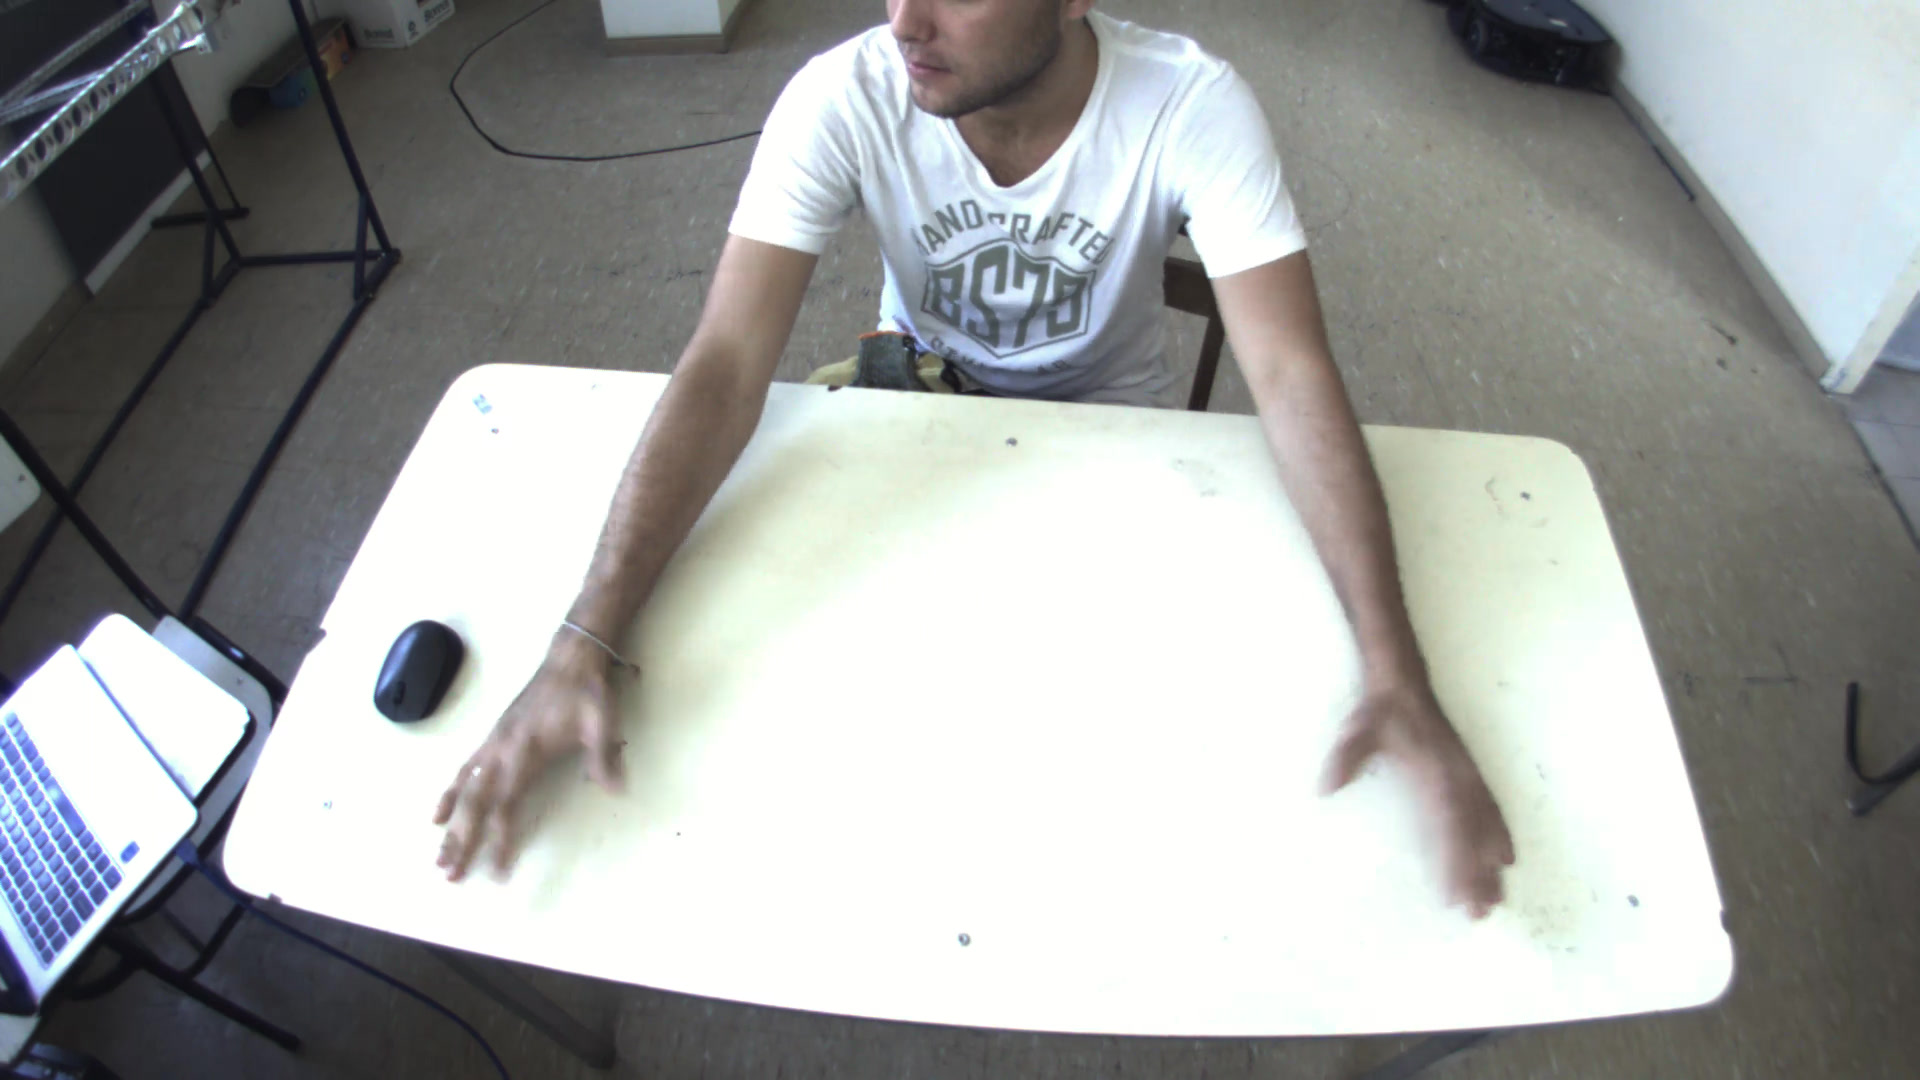hand: (429, 644, 663, 895), (1309, 657, 1524, 931)
